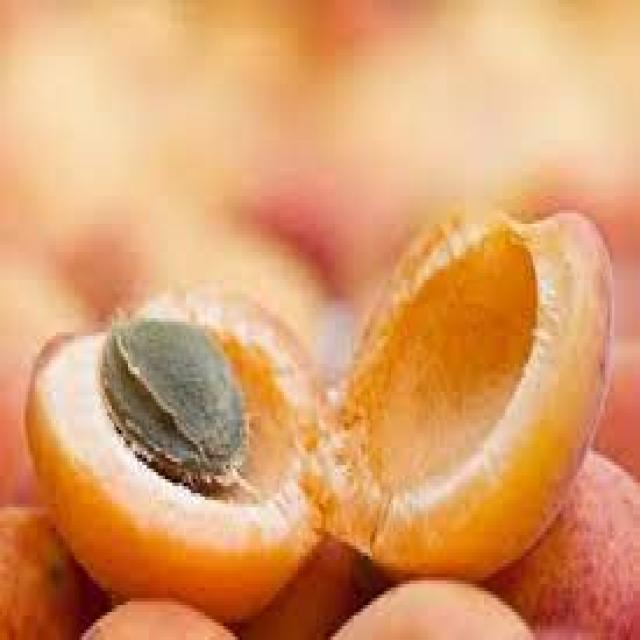Cekirdek: (100, 318, 242, 476)
Kayisi: (305, 213, 610, 574)
